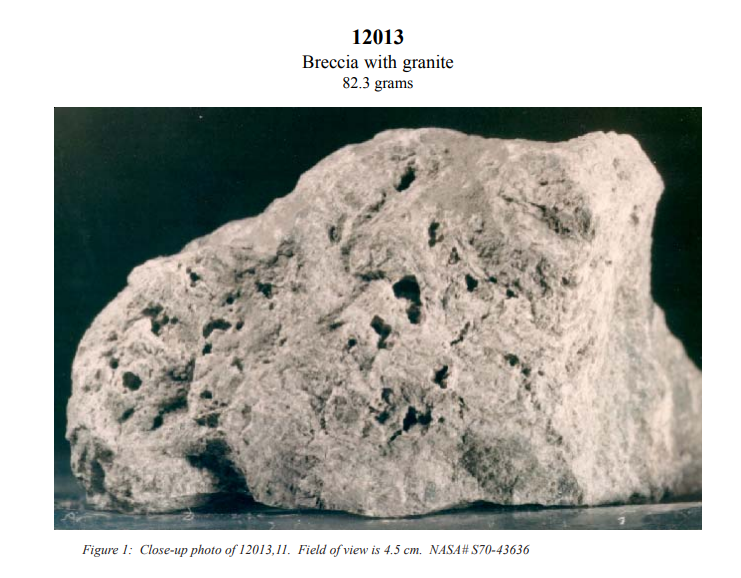Breccia: (52, 109, 709, 514)
